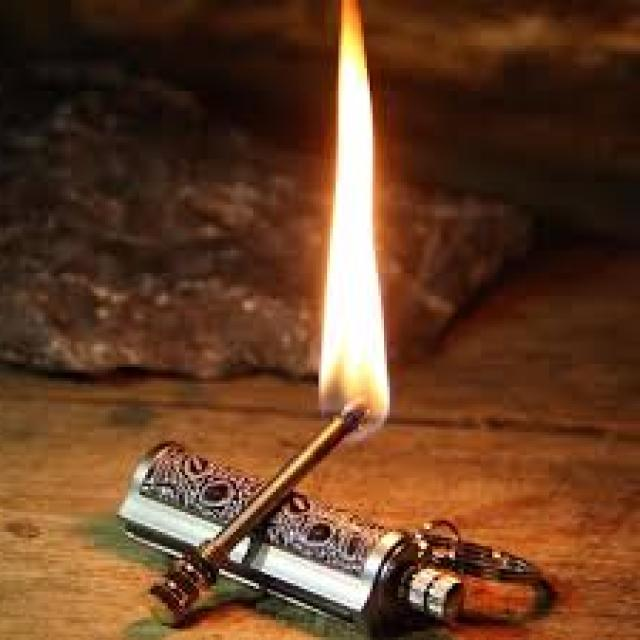fire: (286, 5, 412, 443)
